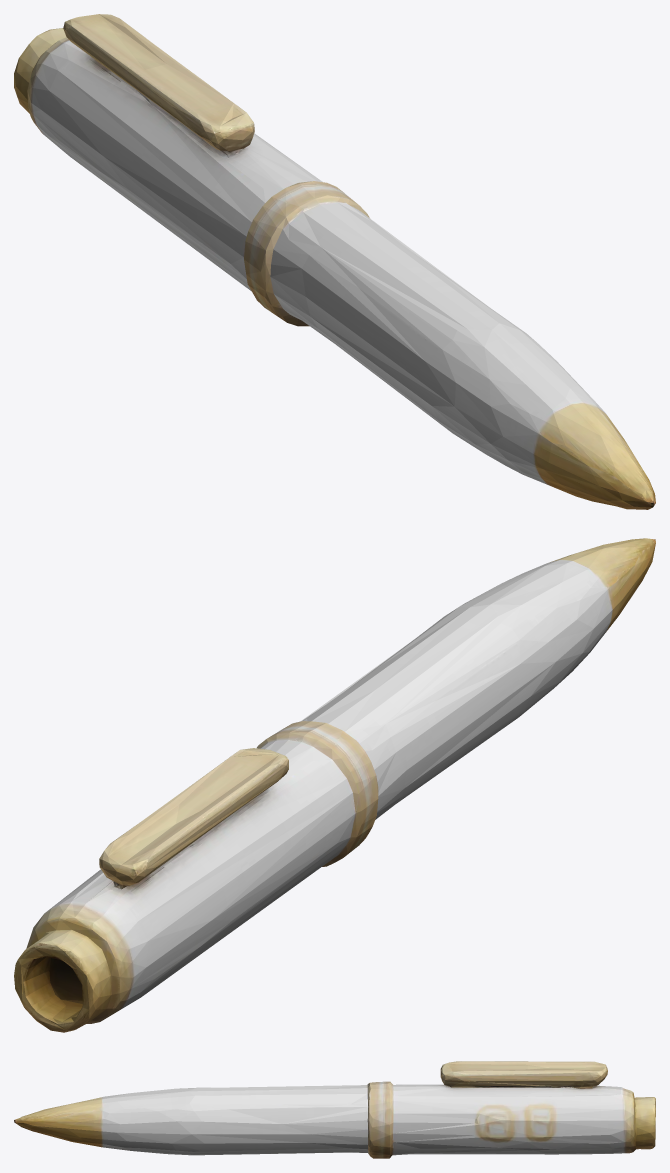
The model's file is white_pen.glb.
3 renders of one model, top to bottom at view 1: azimuth 30°, elevation 25°; view 2: azimuth 150°, elevation 25°; view 3: azimuth 270°, elevation 25°, orthographic. The views are drawn at different scales.
Visible parts, largest first — view 1: geometry_0; view 2: geometry_0; view 3: geometry_0.
Boxes of the visible parts, <box> form: geometry_0: <box>14,14,655,509</box>; geometry_0: <box>14,538,655,1032</box>; geometry_0: <box>14,1061,655,1158</box>.
Size of the model in its own units: 0.1121 by 0.1462 by 0.9984.
Materials: 1 (1 with a texture image).
